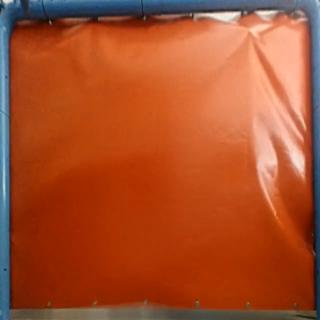Hit-hRxx: (242, 25, 261, 43)
